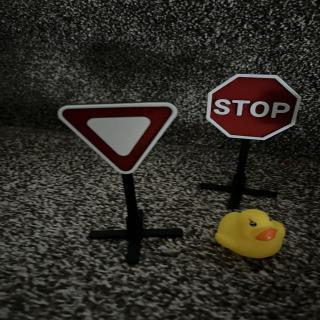duck_regular: (216, 210, 287, 261)
sign_stop: (207, 75, 302, 143)
sign_yield: (58, 104, 180, 177)
